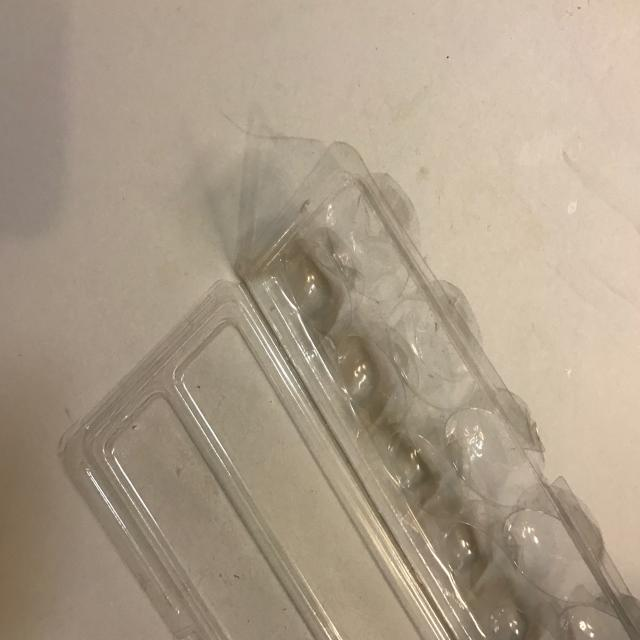plastic: (59, 111, 640, 640)
